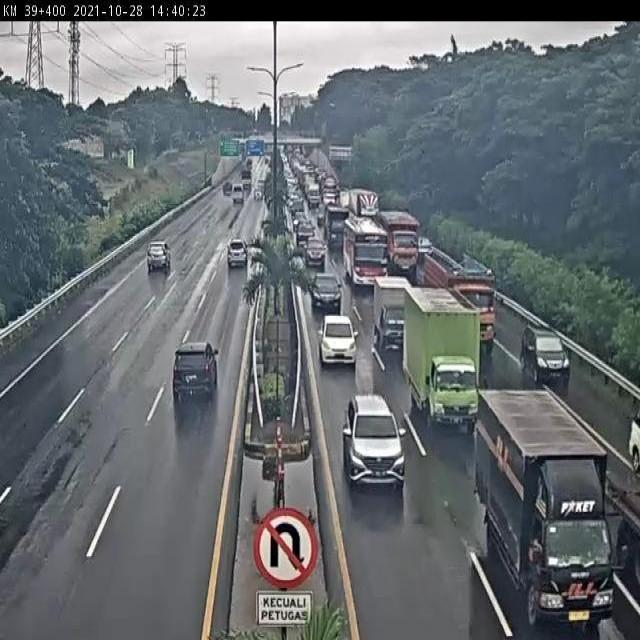bus-l-: (343, 213, 389, 288)
car: (345, 393, 406, 484), (170, 338, 221, 394), (522, 324, 567, 379), (319, 316, 357, 364), (309, 275, 341, 309), (147, 241, 174, 275), (226, 242, 249, 270), (304, 236, 326, 264)
truck-l-: (419, 247, 493, 348), (383, 213, 420, 270)
truck-m-: (477, 389, 616, 627), (401, 284, 481, 435)
truck-s-: (373, 279, 416, 348)
